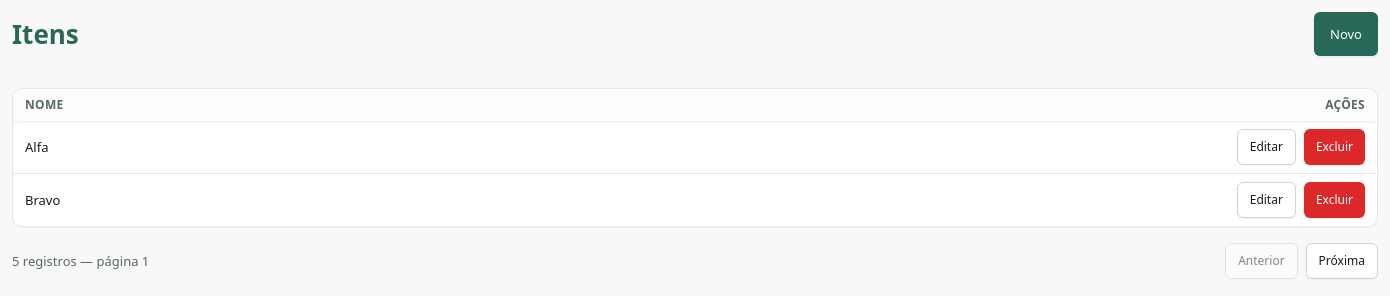
CrudPage — paginação › Próxima solicita e renderiza a página seguinte (registros antes inacessíveis)
expect the text "Alfa" is shown: met, box x1=13 y1=121 x2=410 y2=174
Click the button "Próxima".
click(1342, 261)  # box x1=1306 y1=243 x2=1378 y2=279
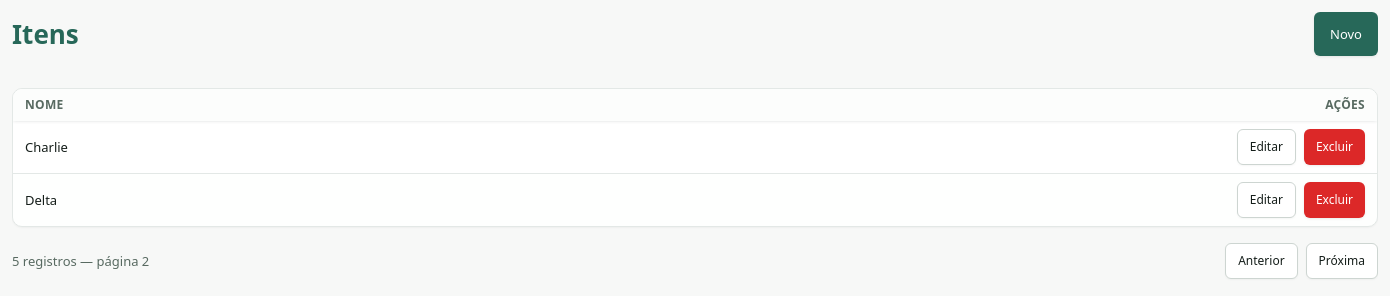
expect the text "Charlie" is shown: met, box x1=13 y1=121 x2=430 y2=174
expect the text "Alfa" is gone: met
expect the text "5 registros — página 2" is shown: met, box x1=12 y1=252 x2=149 y2=270
